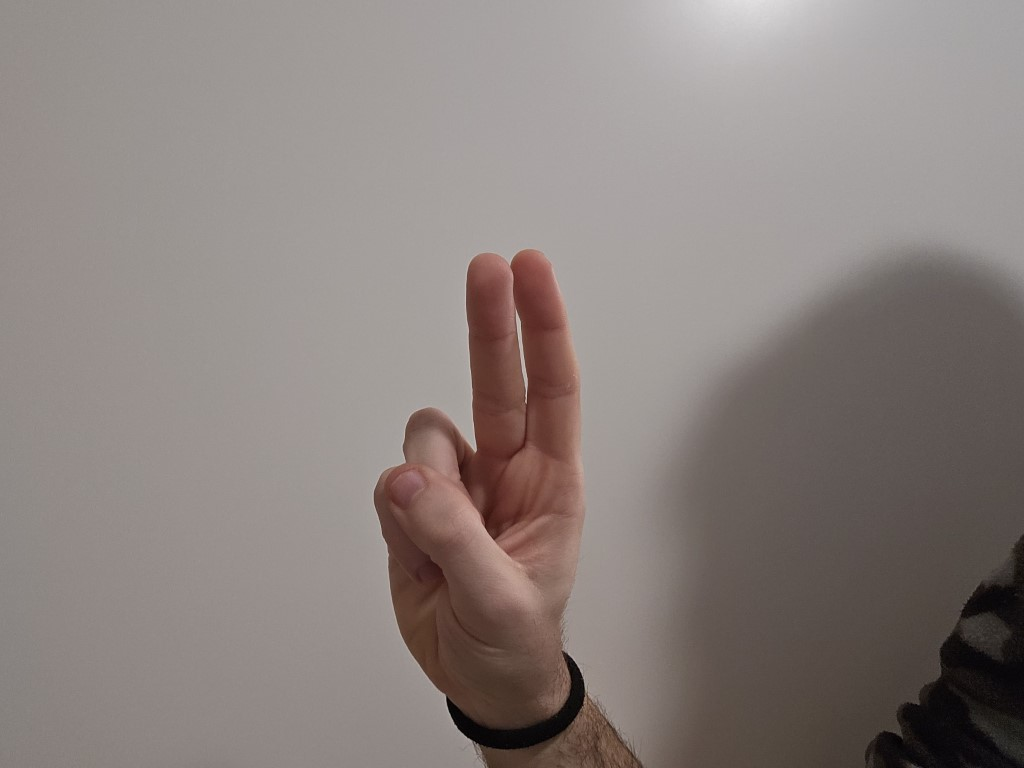r: (338, 242, 601, 710)
